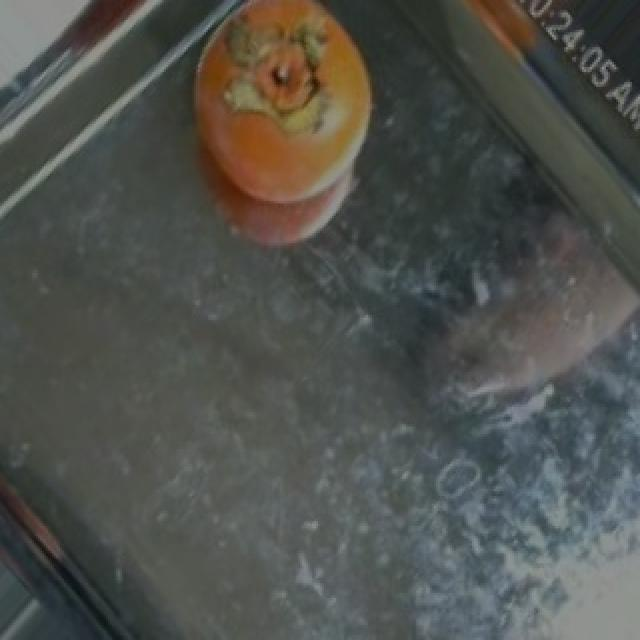Fruit: (164, 10, 398, 273)
